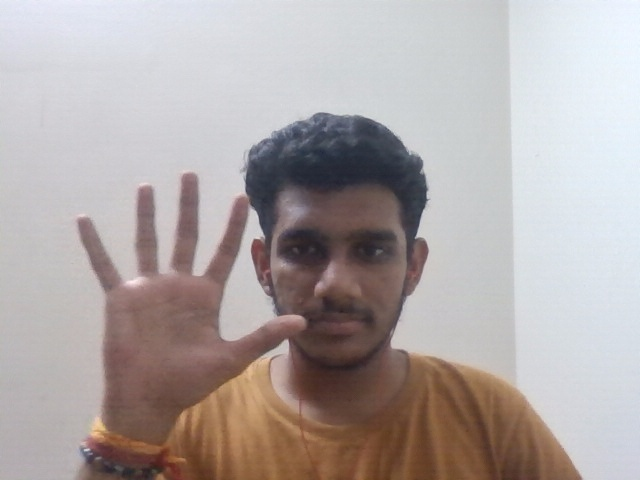hello: (63, 173, 308, 422)
